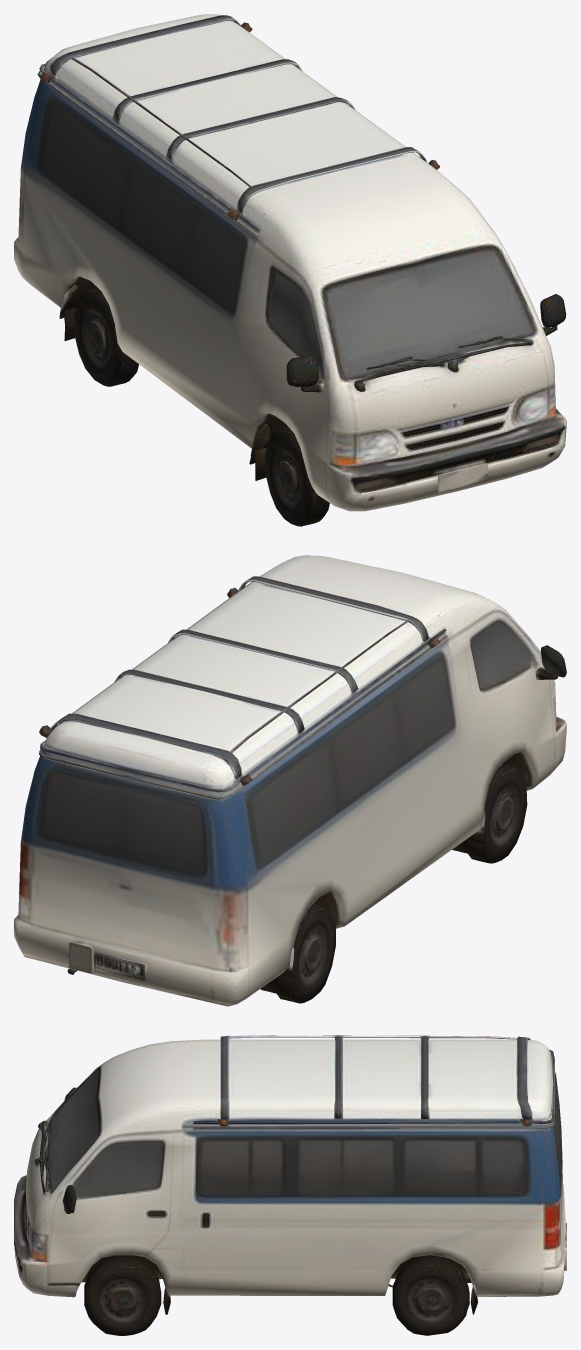
Rendered from microbus.glb.
The picture shows the model from 3 angles, top to bottom: view 1: azimuth 30°, elevation 25°; view 2: azimuth 150°, elevation 25°; view 3: azimuth 270°, elevation 25°; orthographic projection. The views are drawn at different scales.
Parts seen in each view (by area): view 1: tripo_node_ee28e504-8928-4abd-a89c-cc921dd64651; view 2: tripo_node_ee28e504-8928-4abd-a89c-cc921dd64651; view 3: tripo_node_ee28e504-8928-4abd-a89c-cc921dd64651.
Boxes of the visible parts, <box> form: tripo_node_ee28e504-8928-4abd-a89c-cc921dd64651: <box>14,14,566,526</box>; tripo_node_ee28e504-8928-4abd-a89c-cc921dd64651: <box>14,555,566,1006</box>; tripo_node_ee28e504-8928-4abd-a89c-cc921dd64651: <box>14,1035,566,1335</box>.
Size of the model in its own units: 0.4668 by 0.4551 by 0.998.
Materials: 1 (1 with a texture image).
